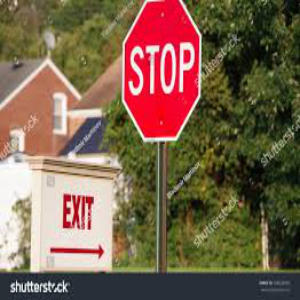STOP_SIGN: (121, 1, 203, 143)
